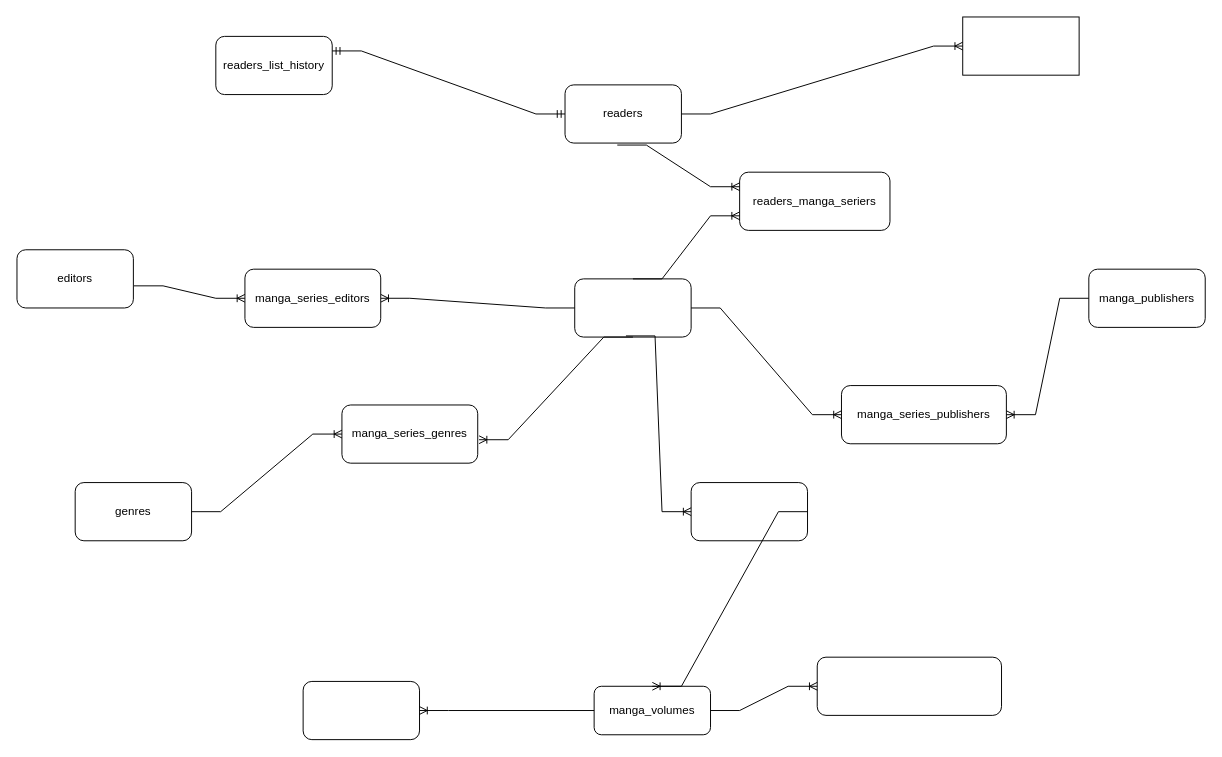
The diagram is 1222 pixels wide and 757 high, and some of its shapes have lost their labels. The centre of each missing label's shape, as x and y in pixels:
"authors" goes at (x=749, y=511).
"manga_chapters" goes at (x=361, y=710).
"manga_language_availibility" goes at (x=909, y=685).
"manga_series" goes at (x=632, y=307).
"readers_subscriptions" goes at (x=1020, y=45).
